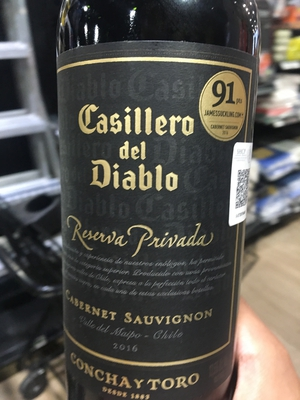casillero del diablo reserva privada cabernet sauvignon: (53, 12, 255, 400)
